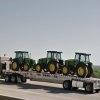Tractor: (11, 44, 94, 81)
